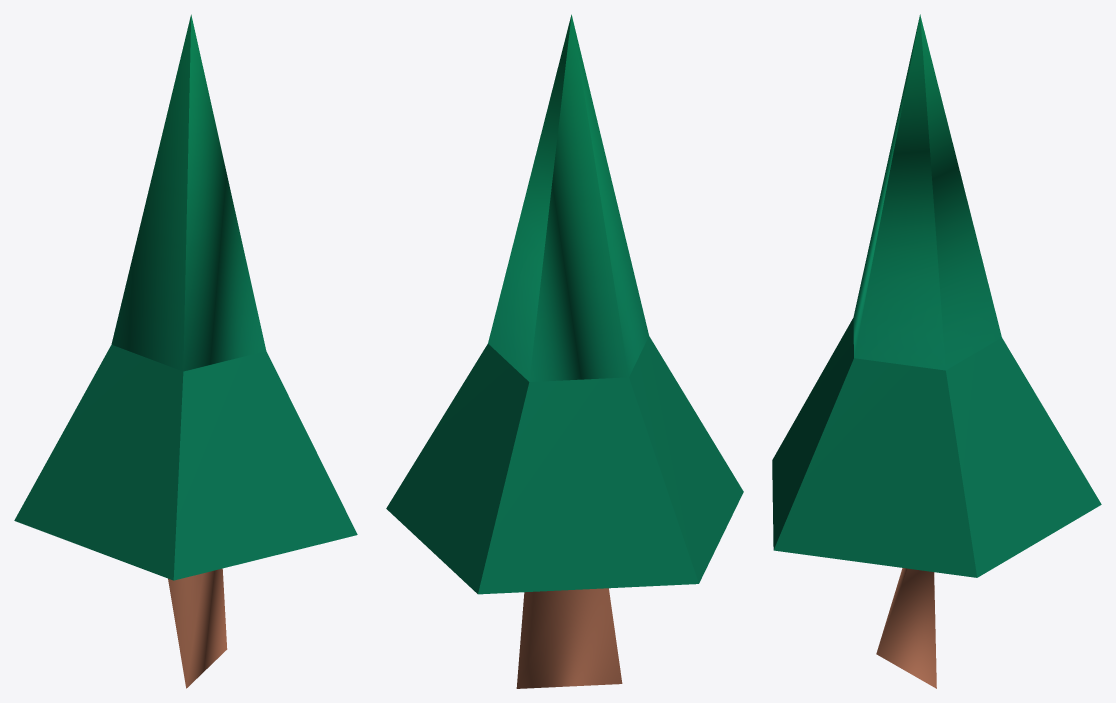
File: tree_single-mid.glb
3 renders of one model, left to right at view 1: azimuth 30°, elevation 25°; view 2: azimuth 150°, elevation 25°; view 3: azimuth 270°, elevation 25°, orthographic. The views are drawn at different scales.
Parts seen in each view (by area): view 1: tree_single_A; view 2: tree_single_A; view 3: tree_single_A.
Part boxes in pixels (x1,y1,x2,y2): tree_single_A: (14,14,357,688); tree_single_A: (386,14,743,688); tree_single_A: (772,14,1101,688).
Size of the model in its own units: 0.574 by 1.2 by 0.547.
Materials: 1 (1 with a texture image).
